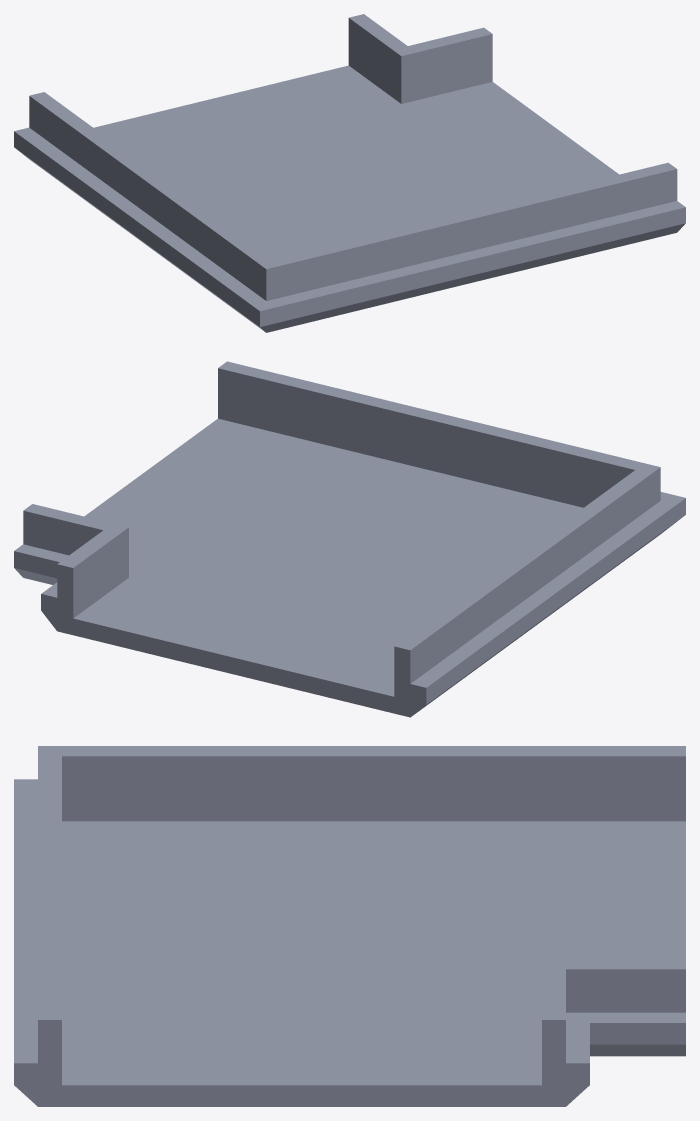
Rendered from building_bridge-turn_v01.gltf.
3 renders of one model, top to bottom at view 1: azimuth 30°, elevation 25°; view 2: azimuth 150°, elevation 25°; view 3: azimuth 270°, elevation 25°, orthographic. The views are drawn at different scales.
Parts seen in each view (by area): view 1: massing; view 2: massing; view 3: massing.
Part boxes in pixels (x1,y1,x2,y2): massing: (14,14,685,332); massing: (14,361,685,717); massing: (14,746,685,1106).
Size of what is drawn, in the model's own units: 14 by 2 by 14.
